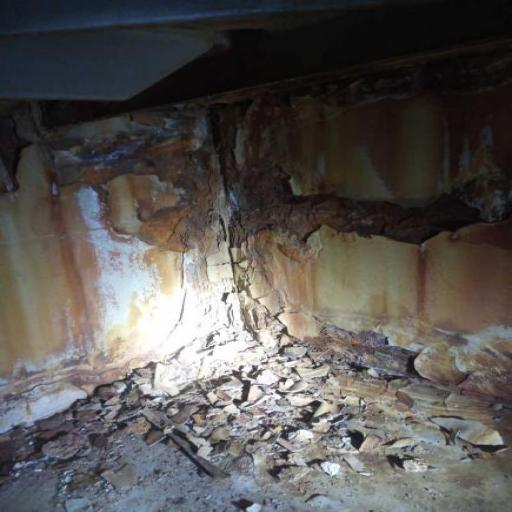Detect-rust-on-metal-surfaces: (0, 33, 511, 511)
